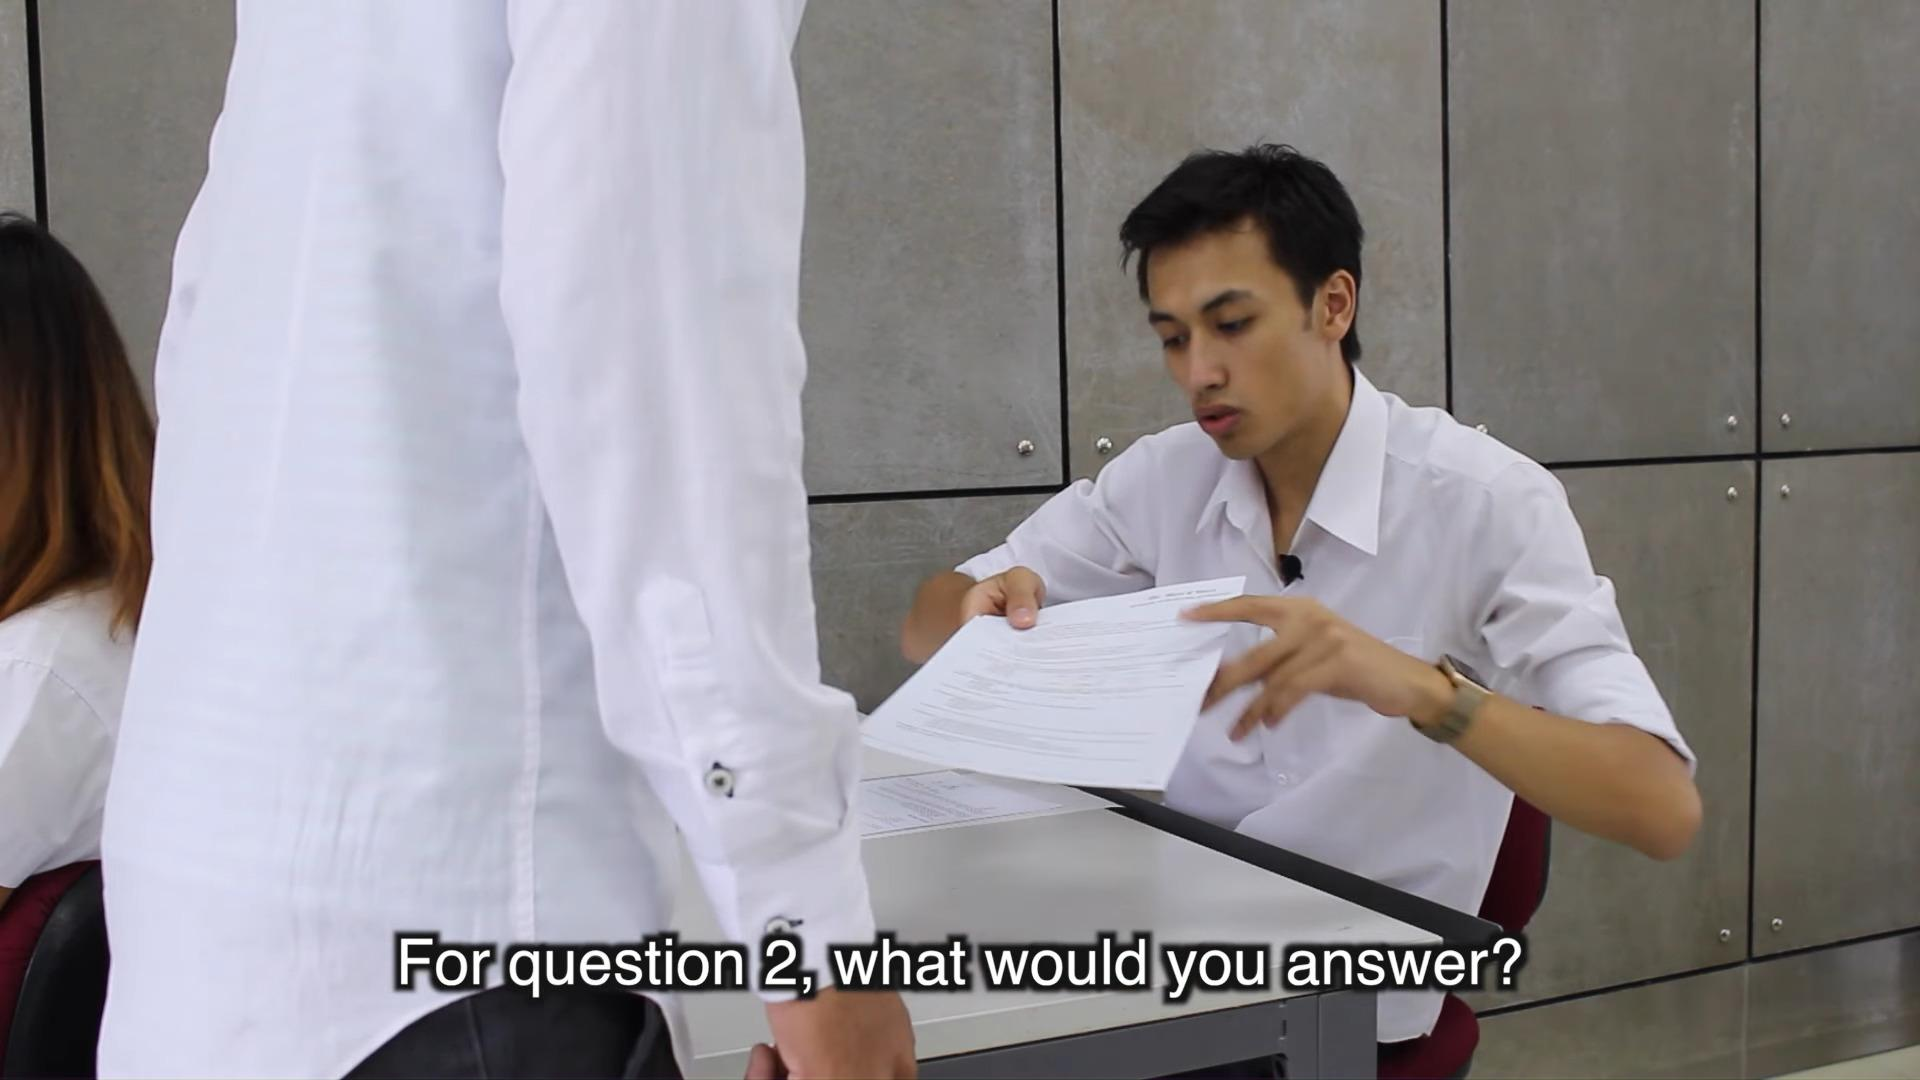good: (831, 123, 1730, 927)
